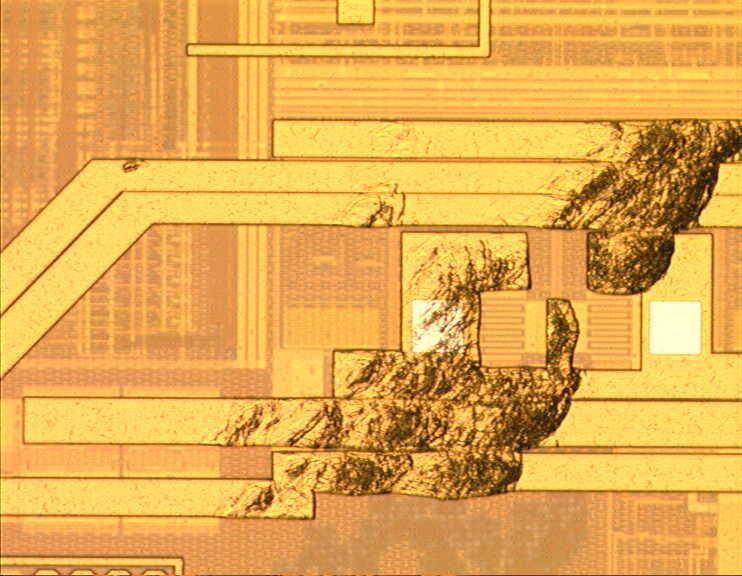SCRATCH: (113, 113, 742, 525)
